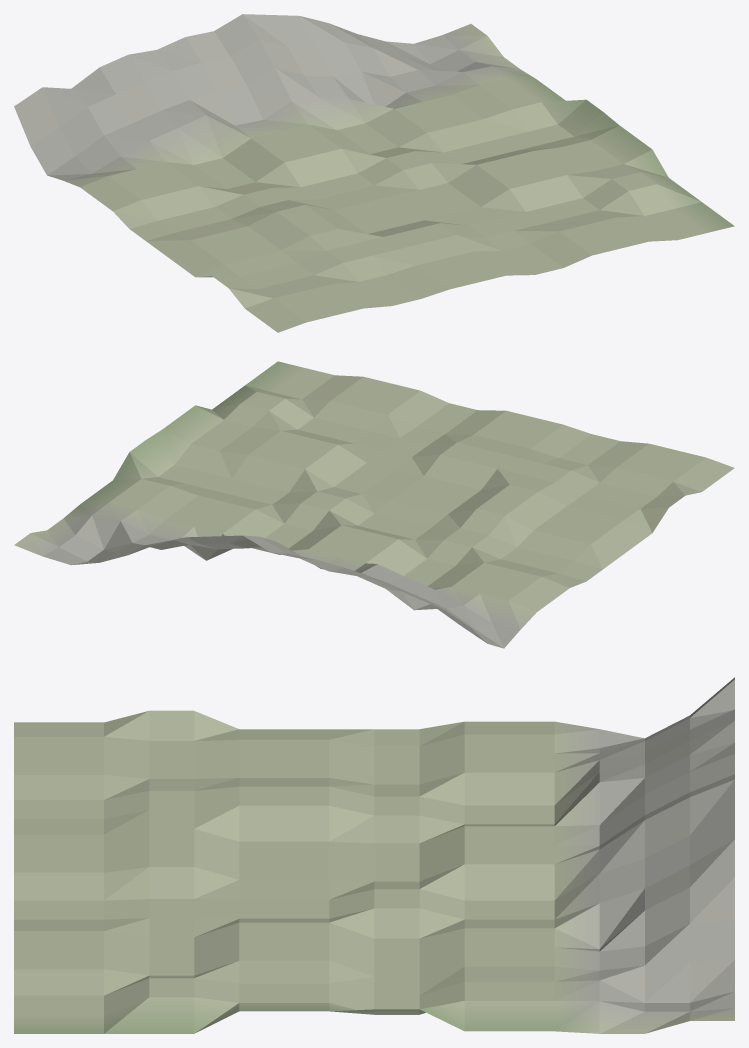
3 views of the same model, one above another, from view 1: azimuth 30°, elevation 25°; view 2: azimuth 150°, elevation 25°; view 3: azimuth 270°, elevation 25° (orthographic). The views are drawn at different scales.
Size of the model in its own units: 32 by 5.52 by 32.
